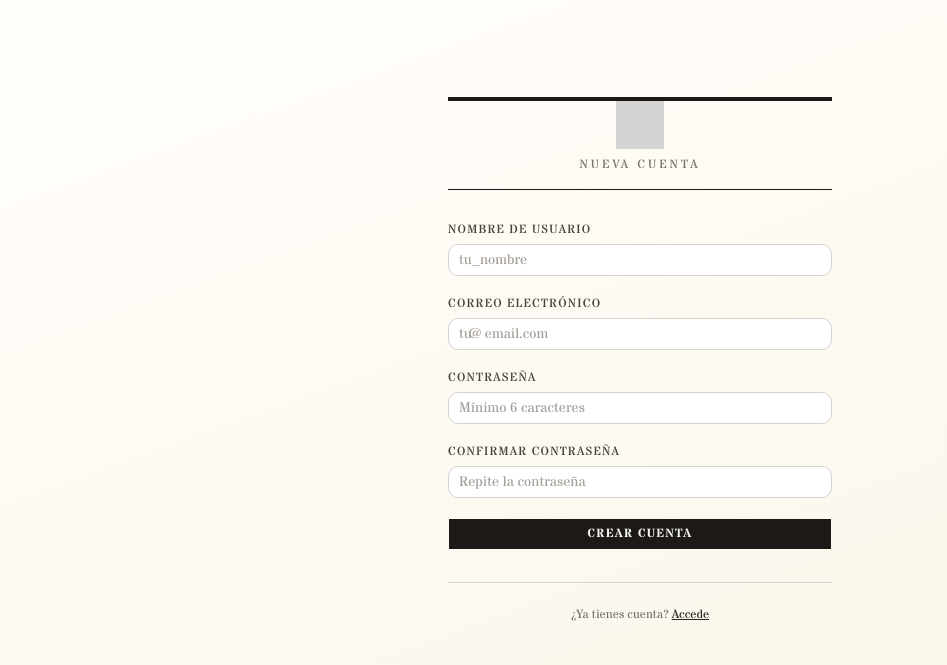
Test: Register › shows error when password is shorter than 6 characters
The width and height of the screenshot is (947, 665).
Type "usuario" into the field with placeholder "tu_nombre" at point(640, 260), box 448,244 -> 832,276
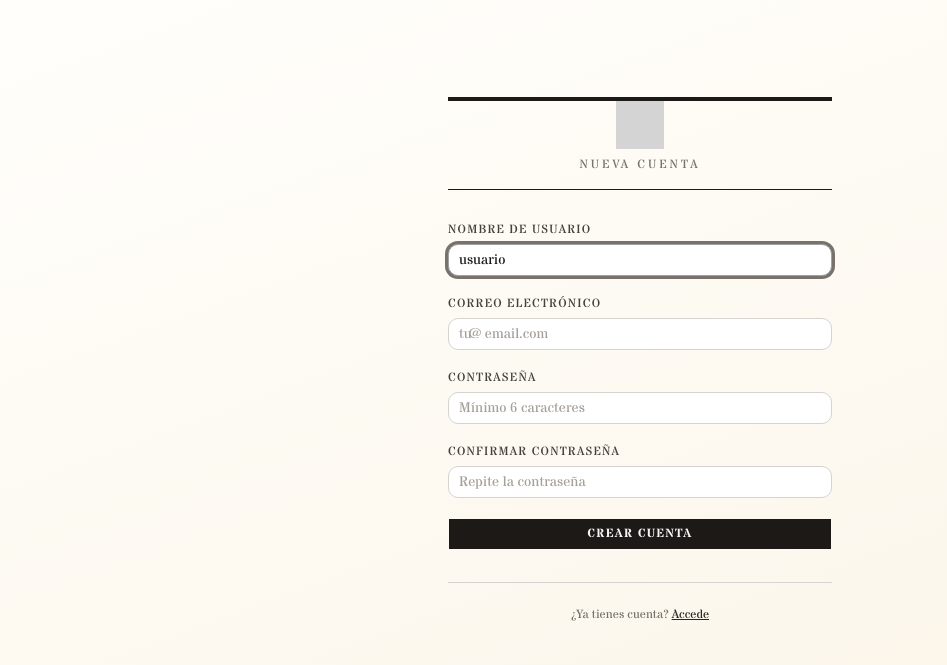
Type "user@test.com" into the field with placeholder "tu@email.com" at point(640, 334), box 448,318 -> 832,350
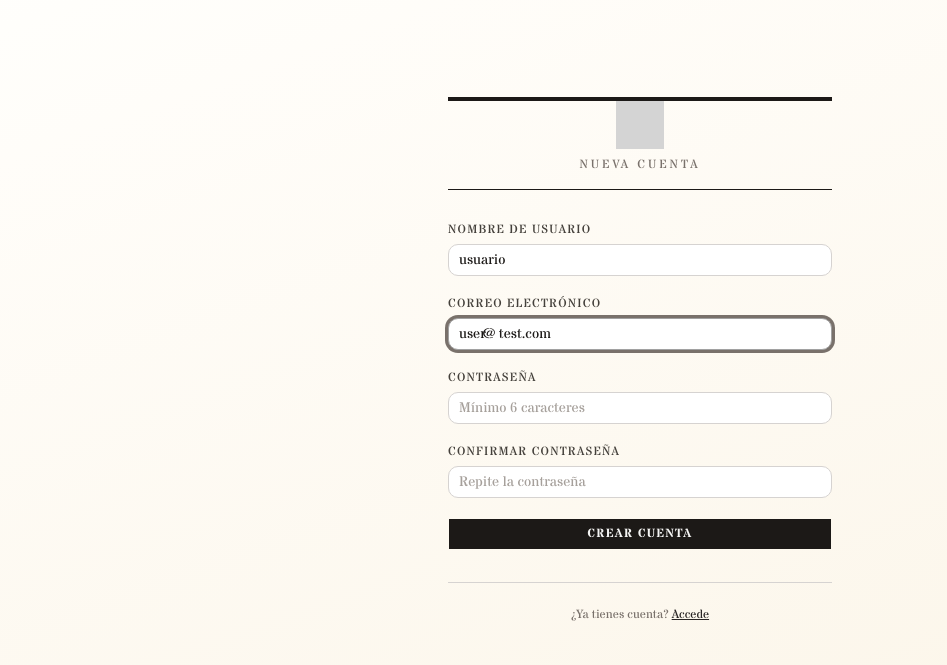
Type "123" into the password field with placeholder "Mínimo 6 caracteres" at point(640, 408), box 448,392 -> 832,424
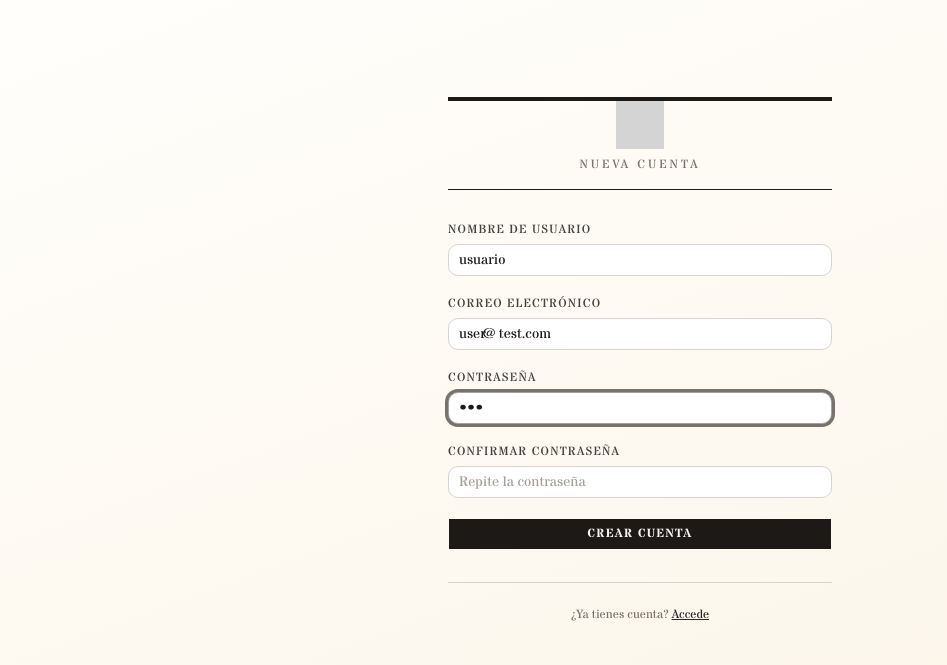
Type "123" into the password field with placeholder "Repite la contraseña" at point(640, 482), box 448,466 -> 832,498
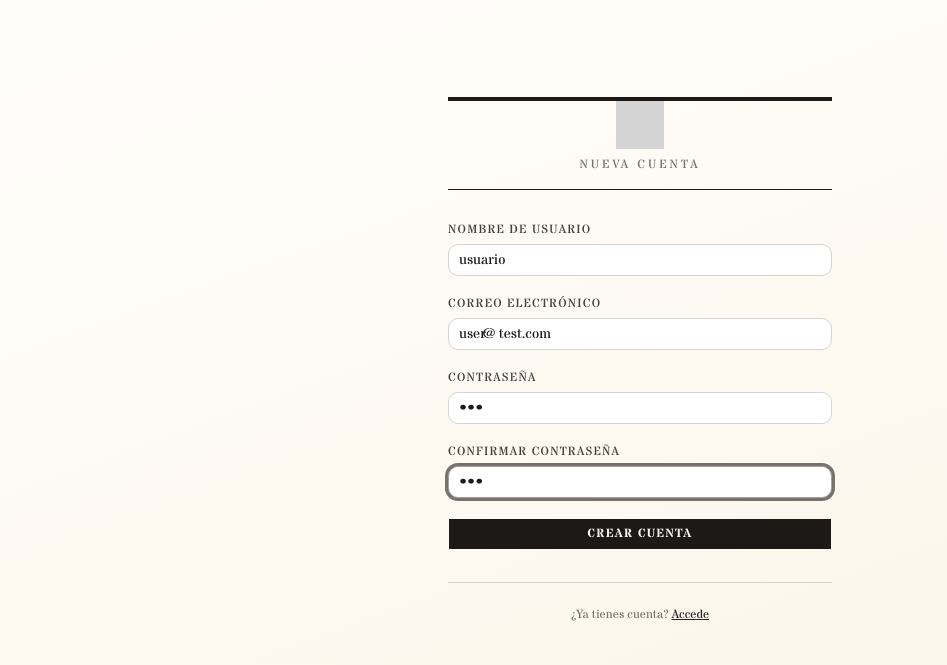
Click the button "Crear cuenta" at point(640, 534), box 448,518 -> 832,550
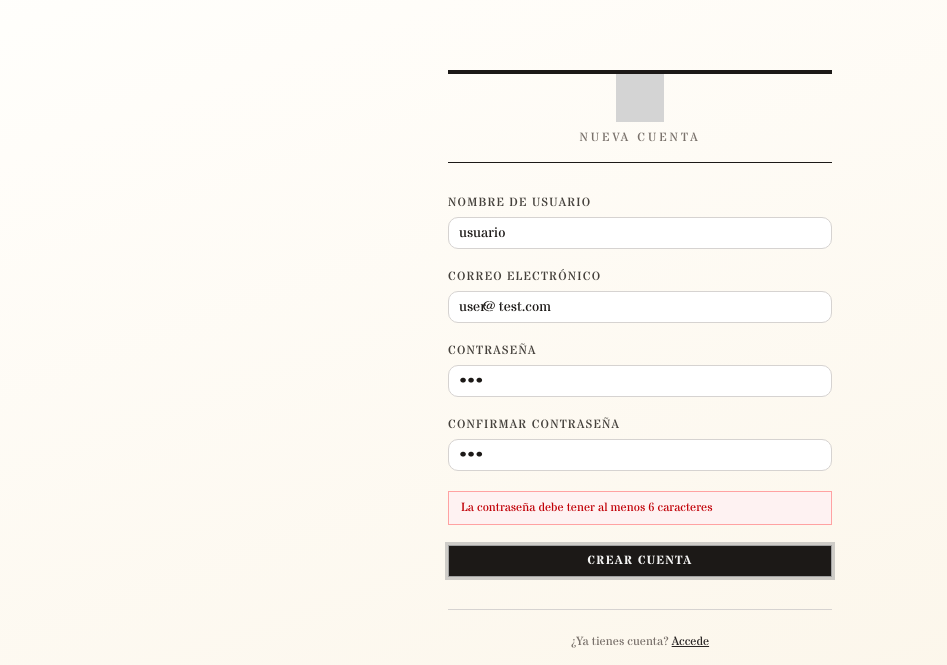
Check: the text "La contraseña debe tener al menos 6 caracteres" is shown, box 448,491 -> 832,525
